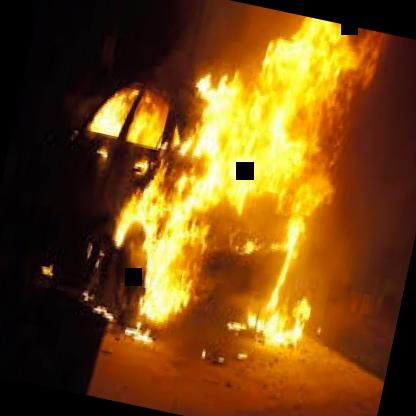fire: (70, 23, 354, 352)
